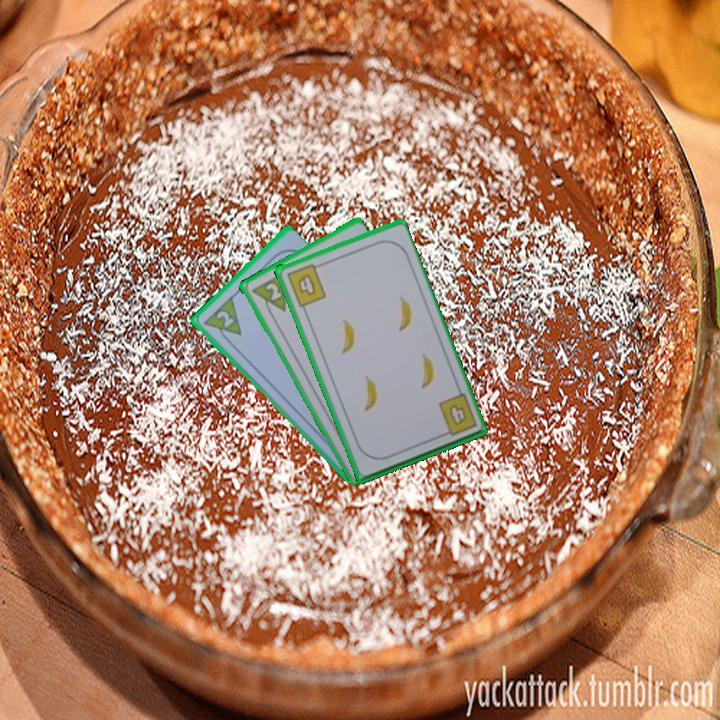2p: (199, 293, 245, 347), (261, 279, 284, 303)
4b: (283, 260, 329, 310), (445, 400, 469, 429)
